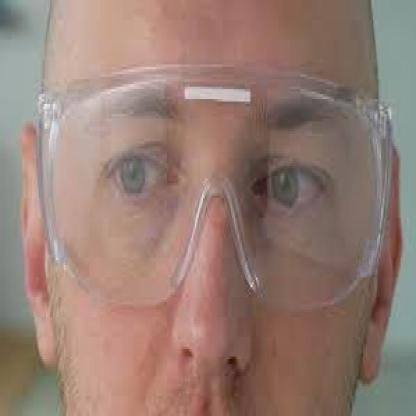goggles: (32, 83, 402, 297)
